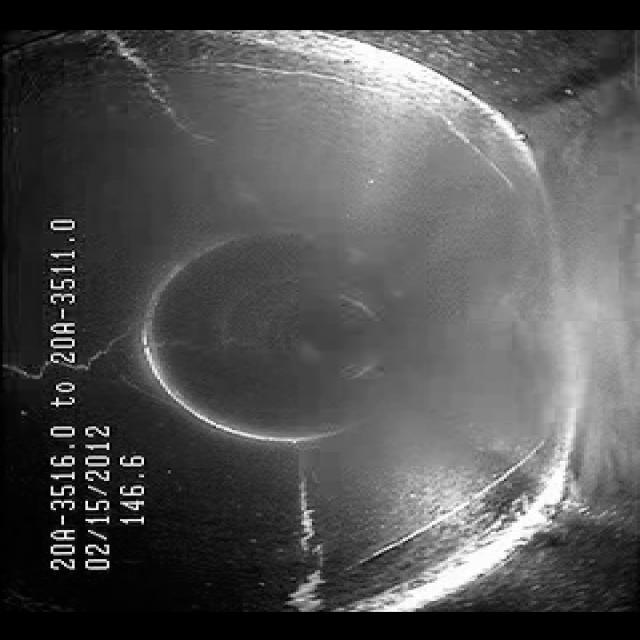Crack: (100, 36, 314, 138)
